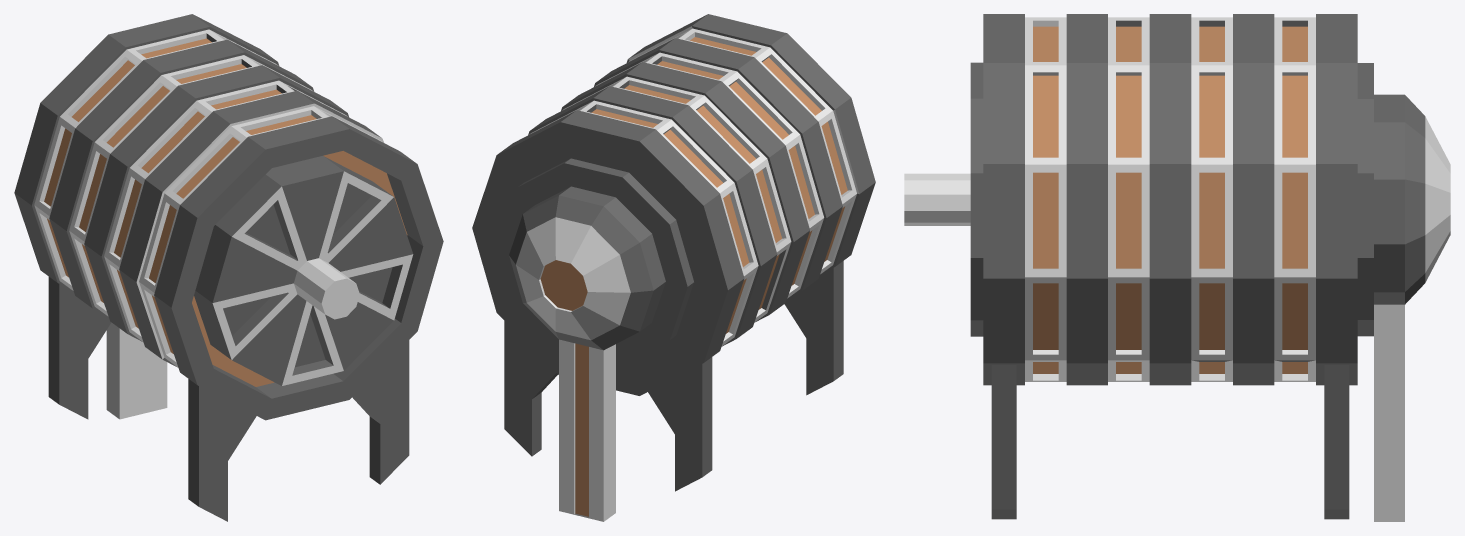
Rendered from Final_Motor2.fbx.
3 views of the same model, side by side, from view 1: azimuth 30°, elevation 25°; view 2: azimuth 150°, elevation 25°; view 3: azimuth 270°, elevation 25° (orthographic). The views are drawn at different scales.
Parts seen in each view (by area): view 1: Cylinder; view 2: Cylinder; view 3: Cylinder.
Boxes of the visible parts, <box> form: Cylinder: <box>14,14,443,521</box>; Cylinder: <box>472,14,875,521</box>; Cylinder: <box>904,14,1450,521</box>.
Bounding box in the file's own units: 468 × 649 × 684.
